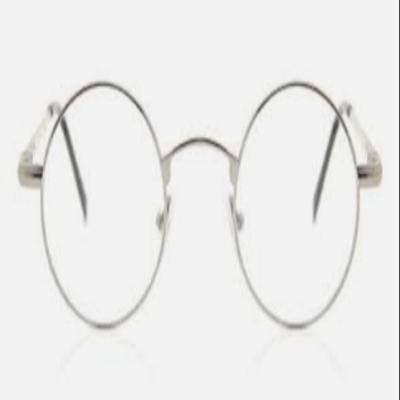glasses: (16, 77, 387, 353)
